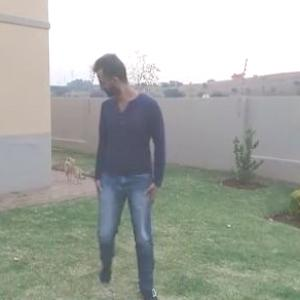follow: (86, 48, 164, 282)
